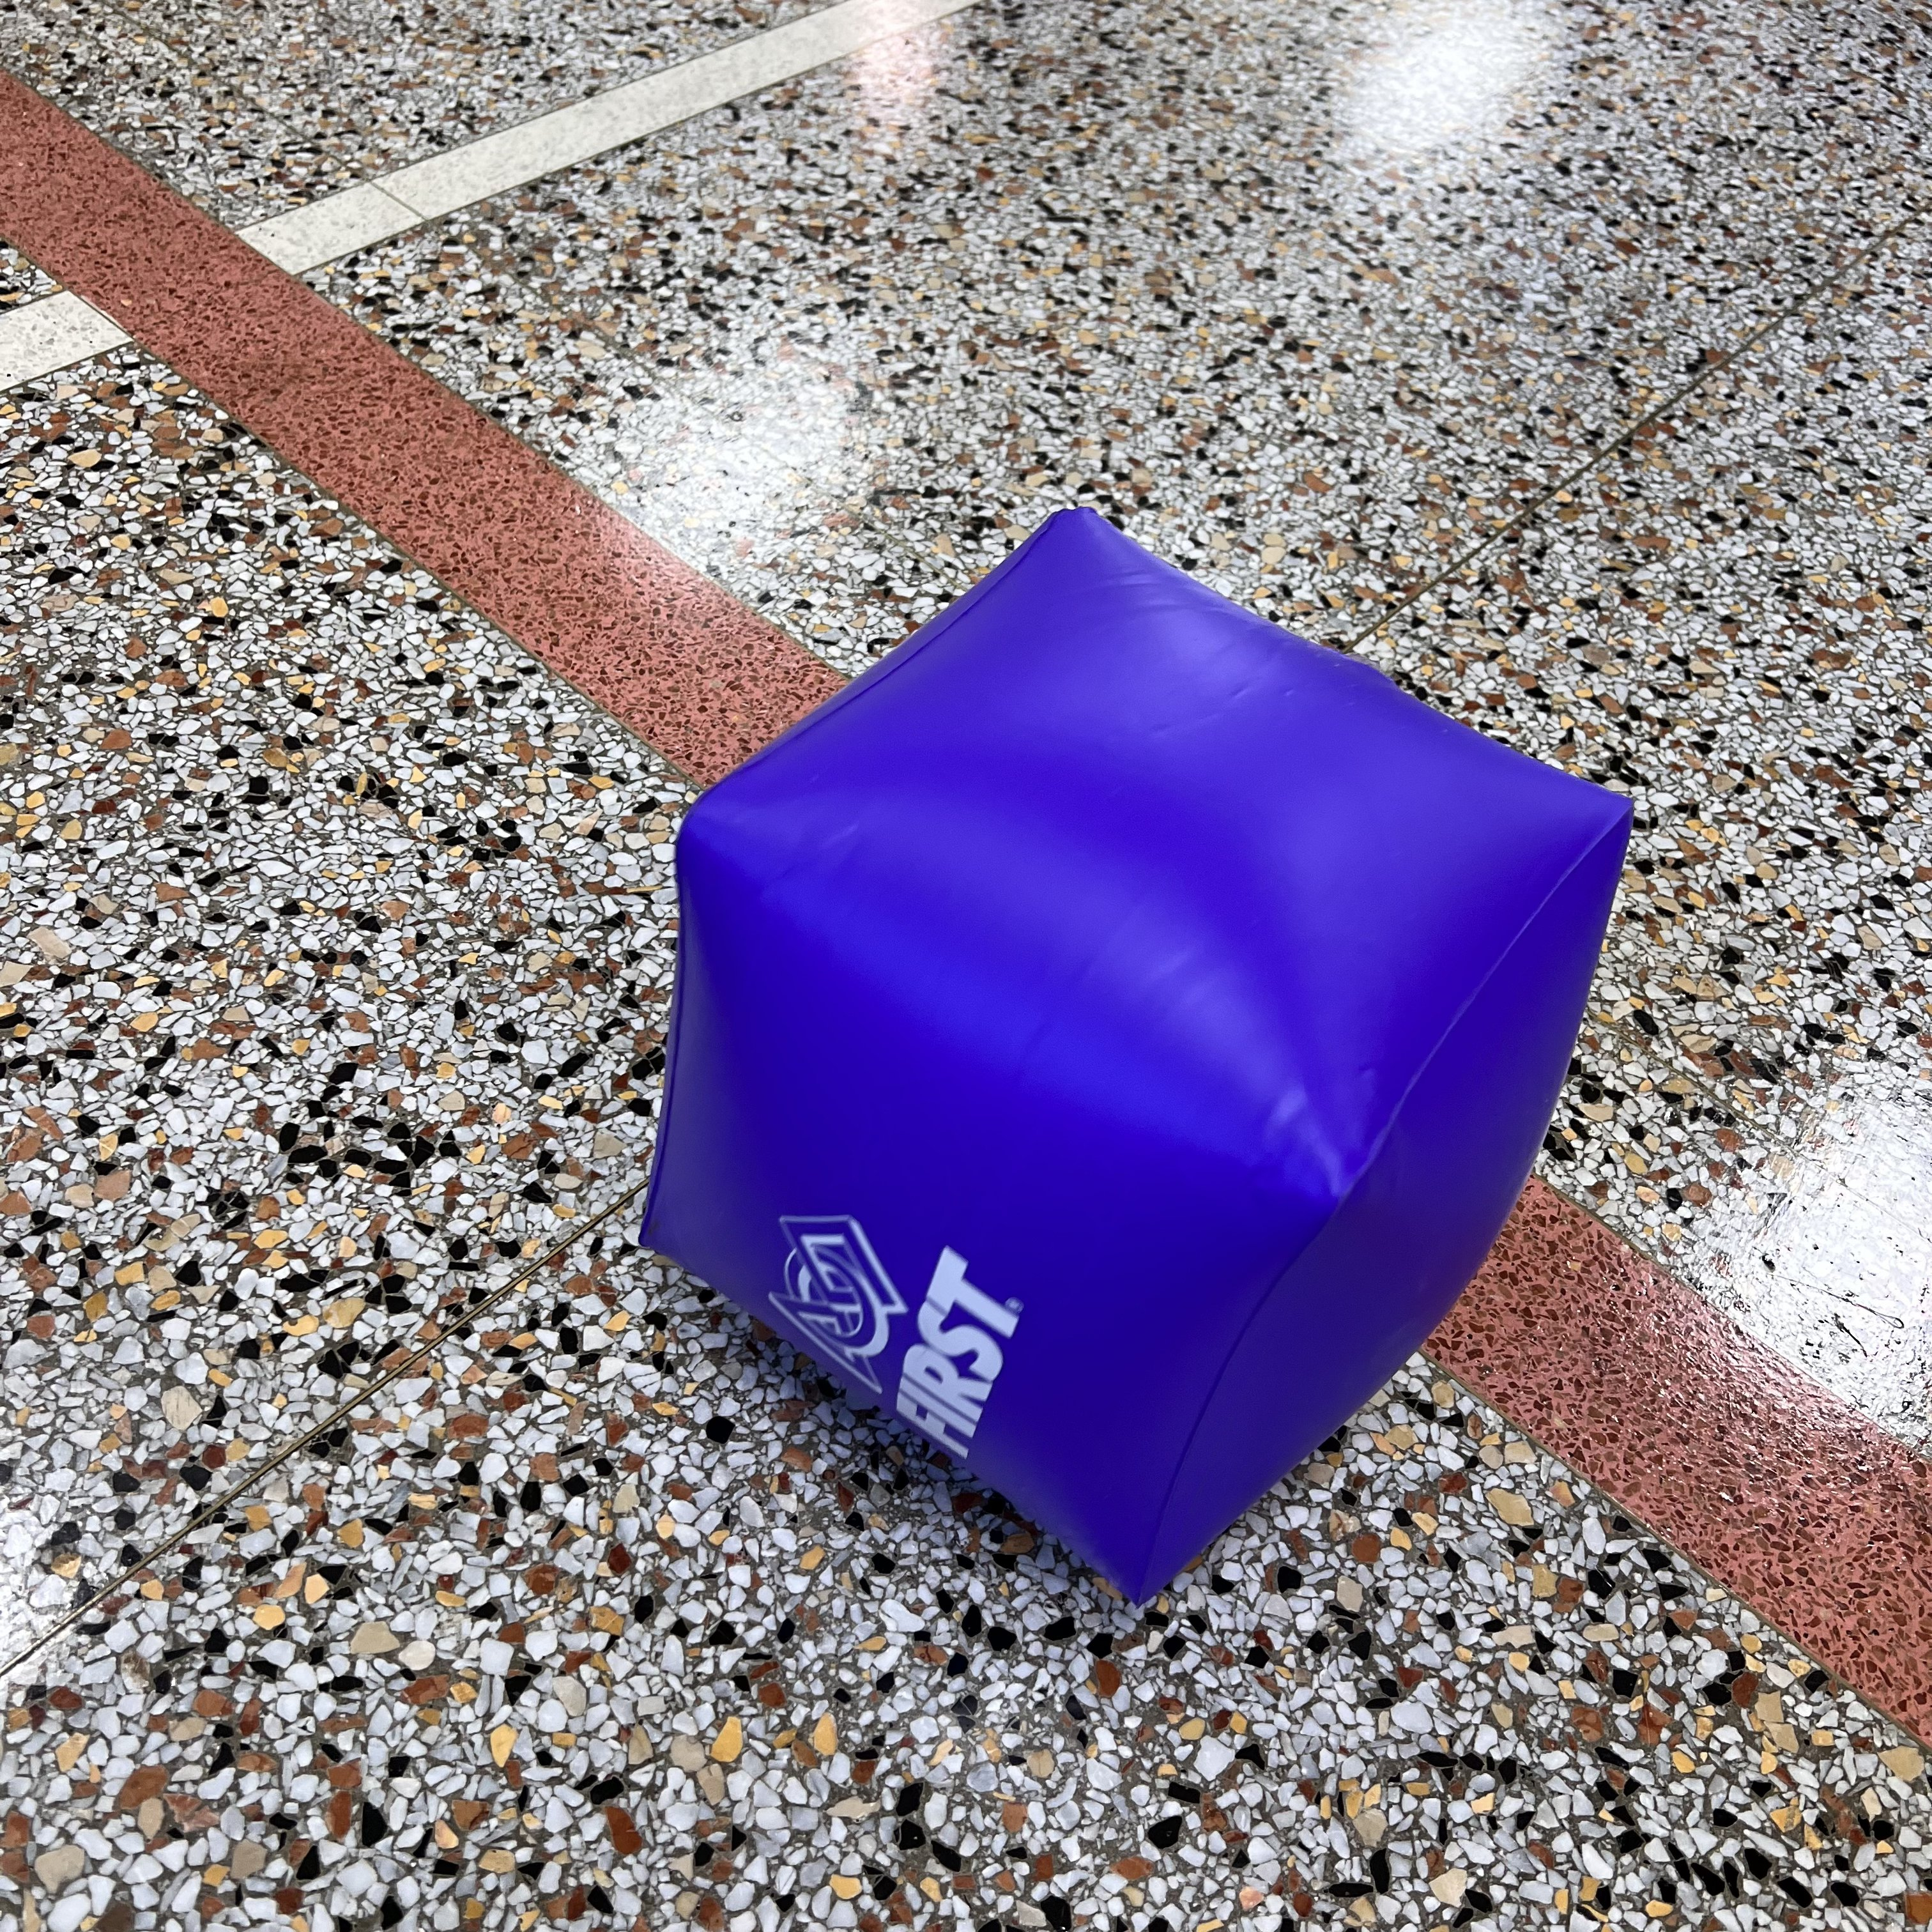cube: (640, 508, 1635, 1601)
